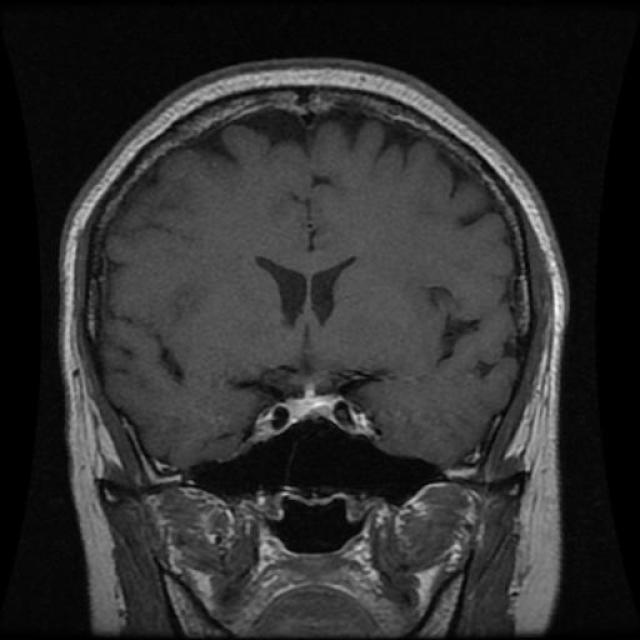pituitary: (232, 372, 402, 470)
